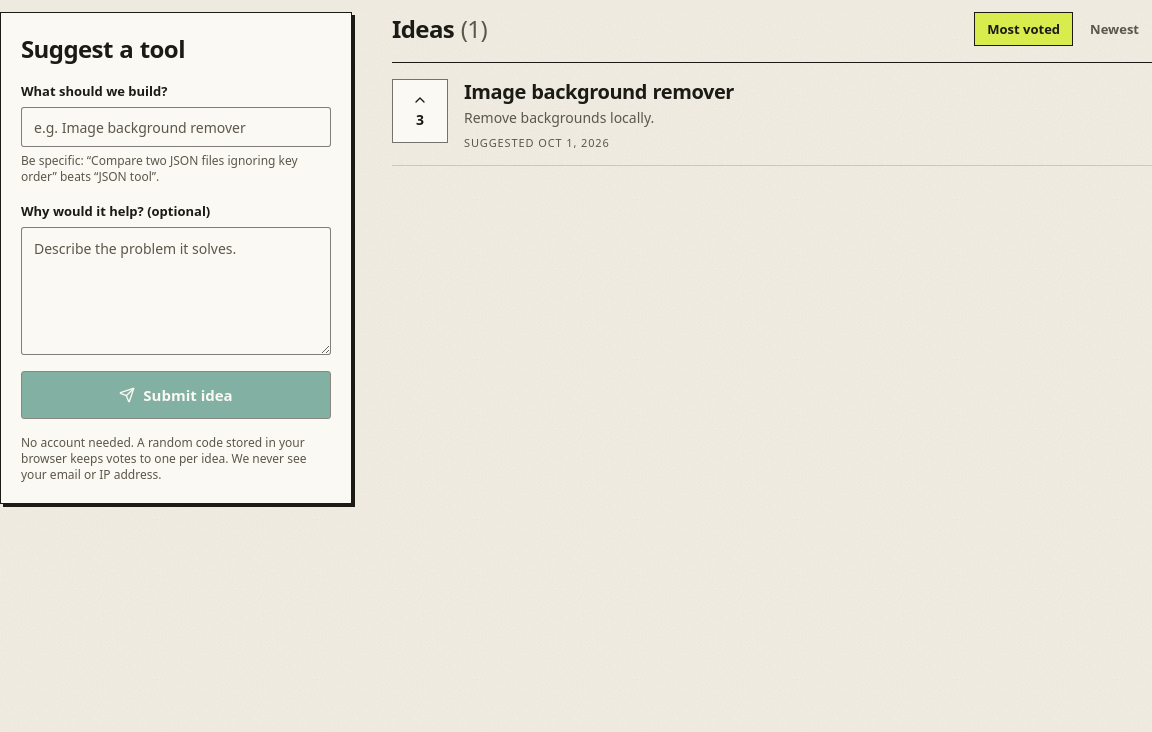
Test: RequestBoard › shows the duplicate message and refreshes the list
Check: the heading "Image background remover" is shown, box [464, 79, 734, 104]
Type "Image background remover" into the field labelled "What should we build?" at (176, 127), box [21, 107, 331, 147]
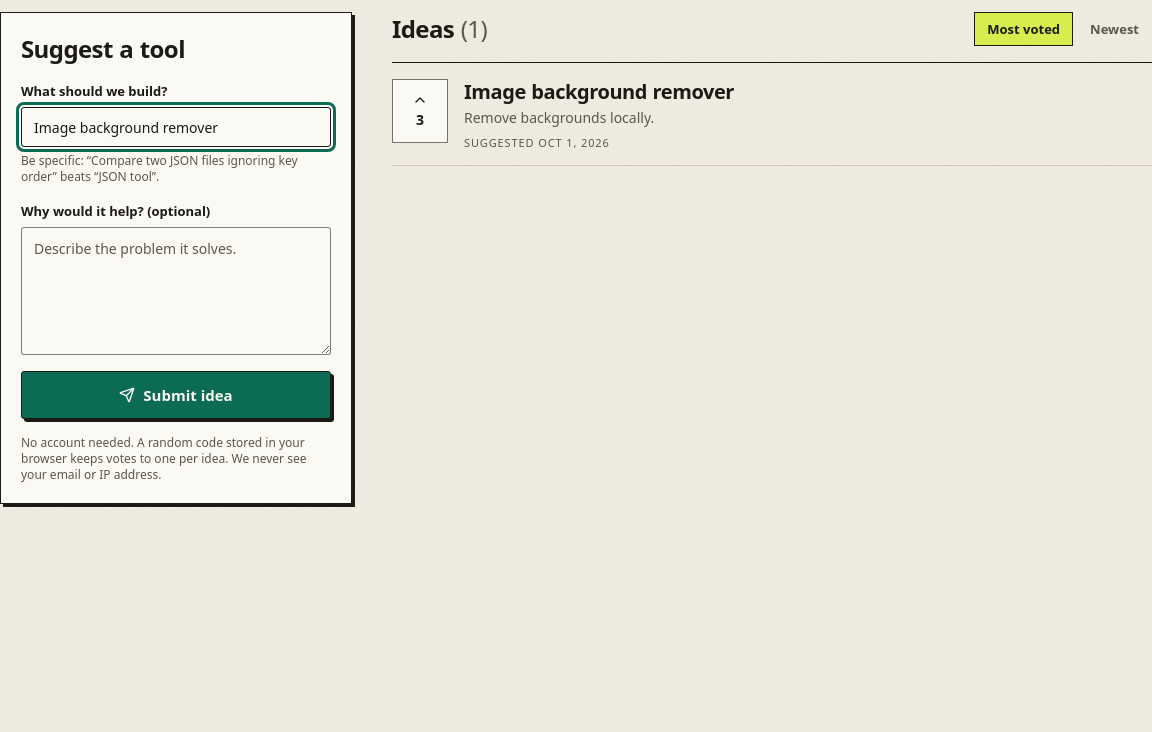
Click the button "Submit idea" at (176, 395), box [21, 371, 331, 419]
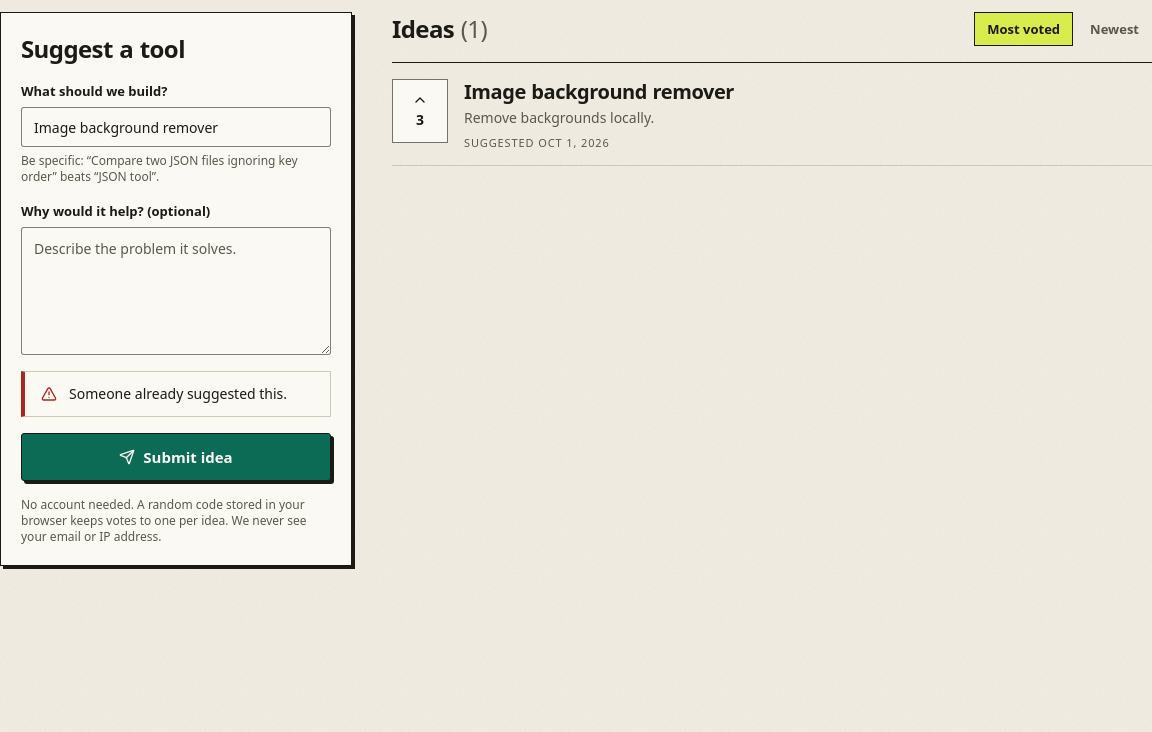
Check: the text "Someone already suggested this." is shown, box [69, 384, 287, 404]
